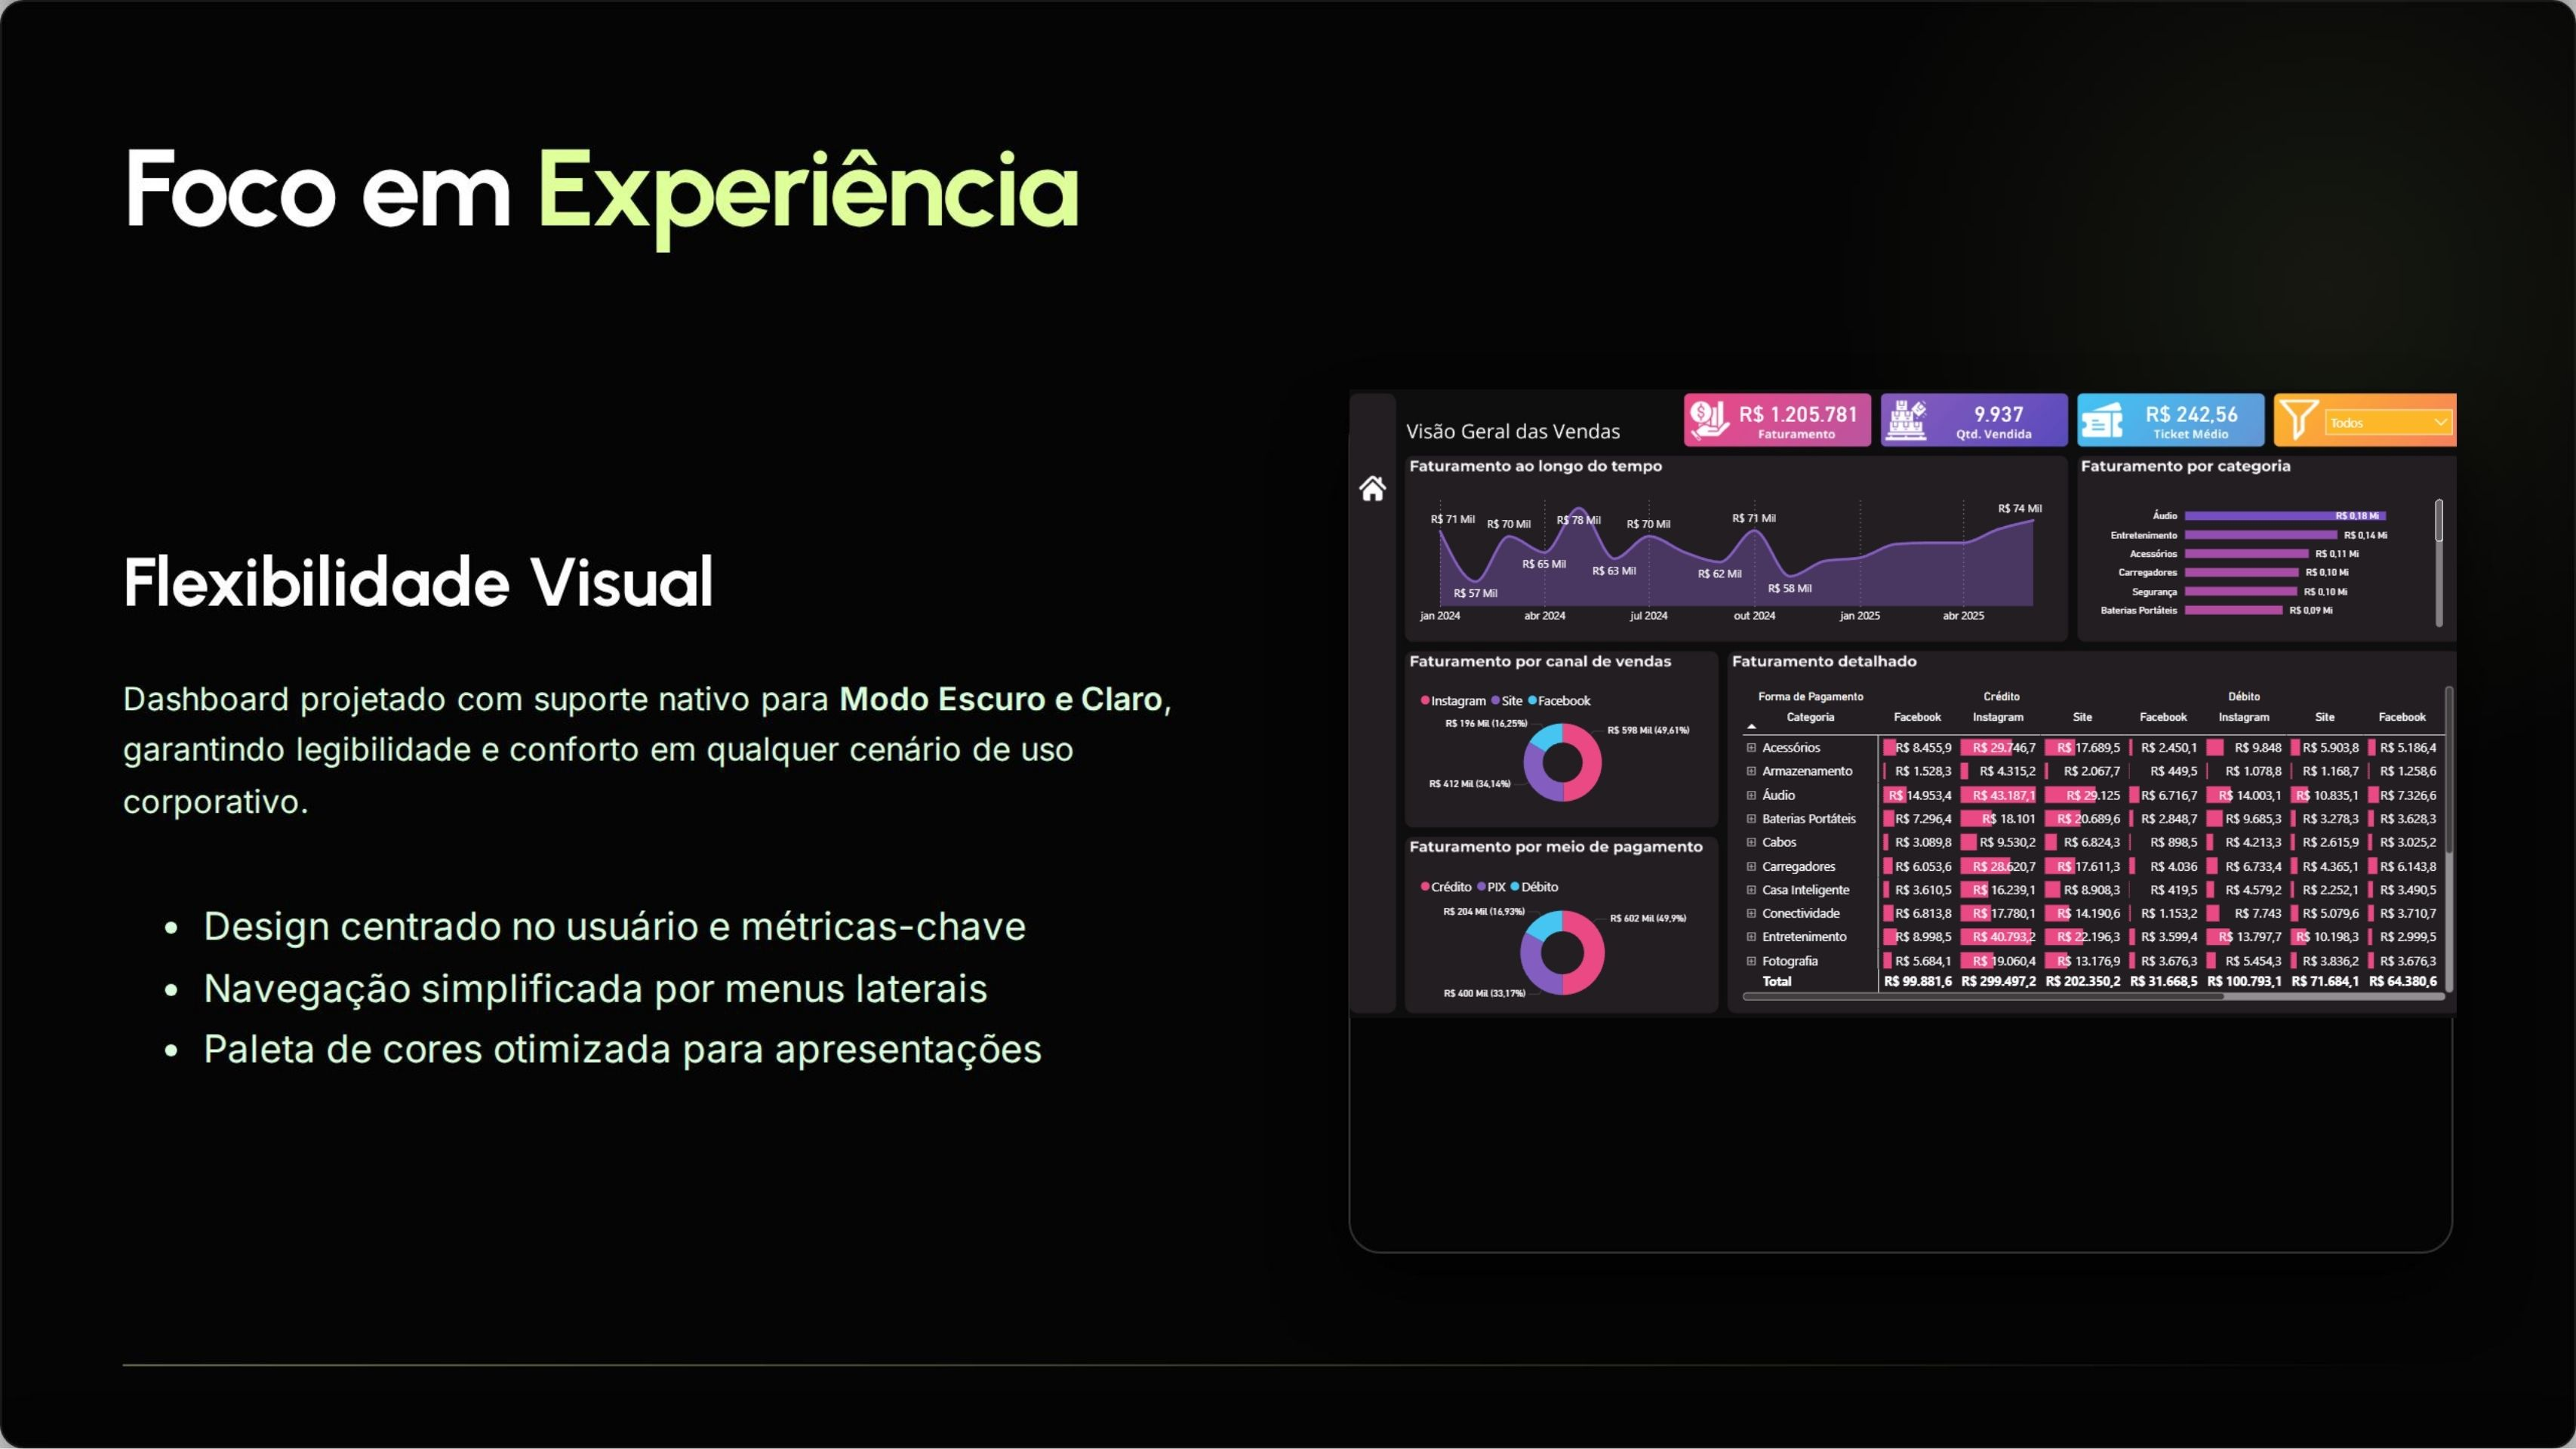

What the dashboard file says about the page in this screenshot:
{"tool":"powerbi","page":{"name":"Home Escuro","canvas":[1280,720],"ordinal":0},"visuals":[{"type":"card","fields":{"Values":["Medidas.Qtd.Vendidas"]},"box":[668.2,0,157.3,57.3],"z":0},{"type":"card","fields":{"Values":["Medidas.Faturamento"]},"box":[428.2,0,181.8,57.3],"z":1000},{"type":"card","fields":{"Values":["Medidas.Ticket médio"]},"box":[888.2,0,157.3,57.3],"z":2000},{"type":"slicer","fields":{"Values":["Vendas.Data.Variation.Hierarquia de datas.Ano","Vendas.Data.Variation.Hierarquia de datas.Mês"]},"box":[1113.6,17.3,154.5,40],"z":3000},{"type":"areaChart","fields":{"Category":["Vendas.Data.Variation.Hierarquia de datas.Ano","Vendas.Data.Variation.Hierarquia de datas.Trimestre","Vendas.Data.Variation.Hierarquia de datas.Mês","Vendas.Data.Variation.Hierarquia de datas.Dia"],"Y":["Medidas.Faturamento"]},"box":[70.9,103.6,754.5,183.6],"z":4000},{"type":"clusteredBarChart","fields":{"Category":["Vendas.Categoria"],"Y":["Medidas.Faturamento"]},"box":[834.5,103.6,433.6,183.6],"z":5000},{"type":"donutChart","fields":{"Category":["Vendas.Canal de Vendas"],"Y":["Medidas.Faturamento"]},"box":[70.9,324.5,357.3,173.6],"z":6000},{"type":"donutChart","fields":{"Category":["Vendas.Forma de Pagamento"],"Y":["Medidas.Faturamento"]},"box":[71,537,357,183],"z":7000},{"type":"pivotTable","fields":{"Columns":["Vendas.Forma de Pagamento","Vendas.Canal de Vendas"],"Rows":["Vendas.Categoria","Vendas.Produto"],"Values":["Medidas.Faturamento"]},"box":[439.1,324.5,840.9,388.2],"z":8000}]}

Visuals, with their boxes in screenshot pixels (x1, y1, x2, y2), scaled from the page's 1280x720 canvas onto the 2576x1449 screenshot:
card - Medidas.Qtd.Vendidas: {"left": 1345, "top": 0, "right": 1661, "bottom": 115}
card - Medidas.Faturamento: {"left": 862, "top": 0, "right": 1228, "bottom": 115}
card - Medidas.Ticket médio: {"left": 1787, "top": 0, "right": 2104, "bottom": 115}
slicer - Vendas.Data.Variation.Hierarquia de datas.Ano x Vendas.Data.Variation.Hierarquia de datas.Mês: {"left": 2241, "top": 35, "right": 2552, "bottom": 115}
areaChart - Vendas.Data.Variation.Hierarquia de datas.Ano x Vendas.Data.Variation.Hierarquia de datas.Trimestre: {"left": 143, "top": 208, "right": 1661, "bottom": 578}
clusteredBarChart - Vendas.Categoria x Medidas.Faturamento: {"left": 1679, "top": 208, "right": 2552, "bottom": 578}
donutChart - Vendas.Canal de Vendas x Medidas.Faturamento: {"left": 143, "top": 653, "right": 862, "bottom": 1002}
donutChart - Vendas.Forma de Pagamento x Medidas.Faturamento: {"left": 143, "top": 1081, "right": 861, "bottom": 1448}
pivotTable - Vendas.Forma de Pagamento x Vendas.Canal de Vendas: {"left": 884, "top": 653, "right": 2575, "bottom": 1435}
